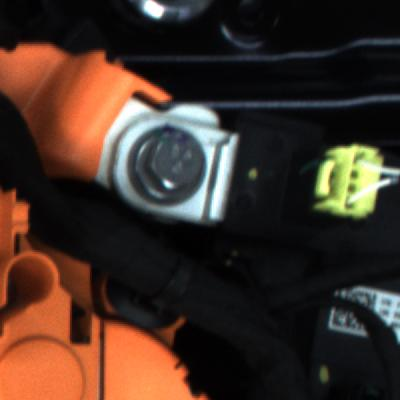nut_b: (124, 122, 221, 217)
